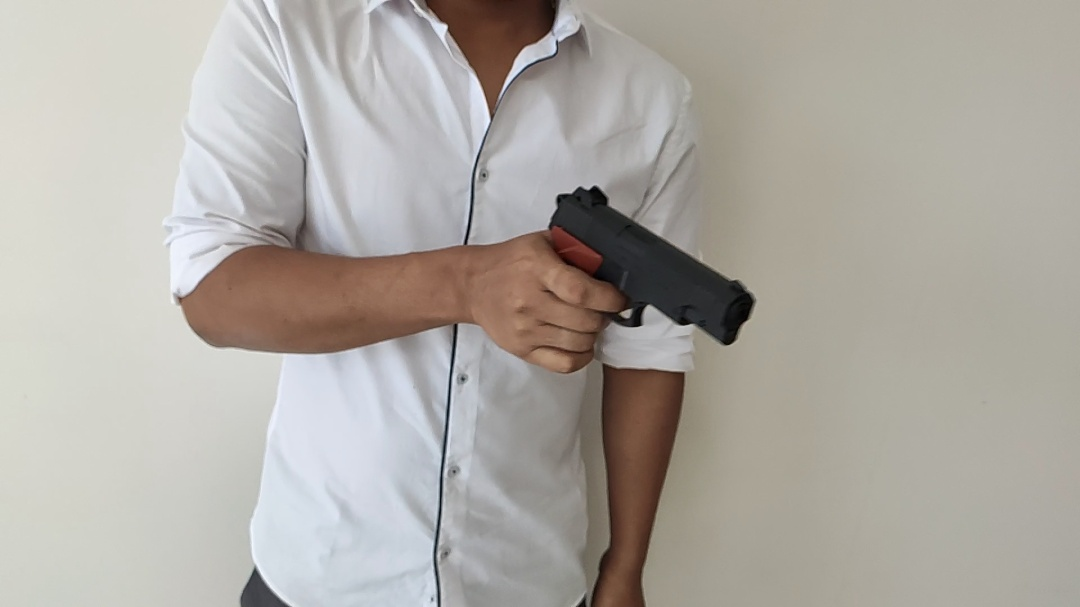gun: (323, 250, 769, 547)
